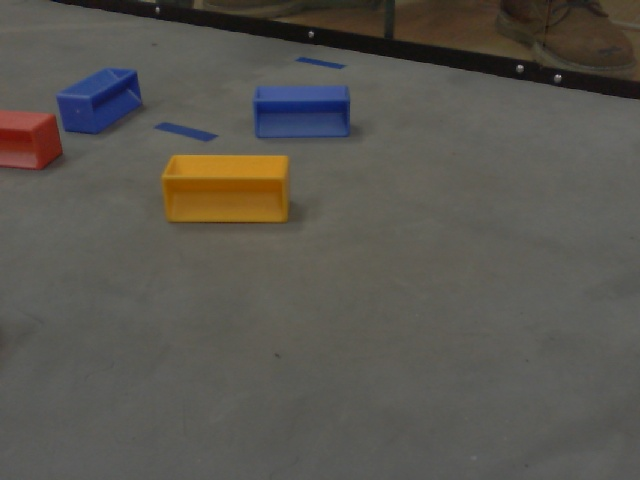BlueSample: (249, 80, 357, 142), (55, 65, 147, 136)
RedSample: (1, 111, 66, 176)
YellowSample: (160, 151, 295, 230)
